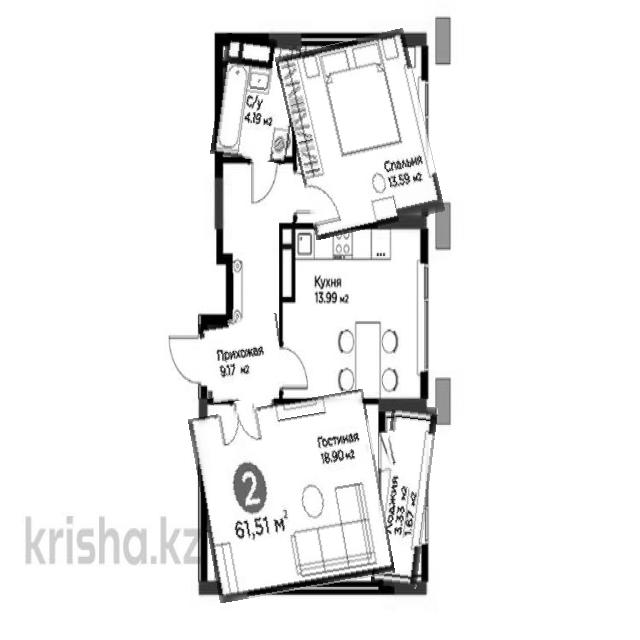balcony: (376, 403, 434, 588)
bathroom: (214, 36, 298, 162)
hallway: (200, 316, 284, 402)
kitchen: (280, 222, 426, 400)
living_room: (196, 395, 388, 596), (285, 34, 435, 234)
